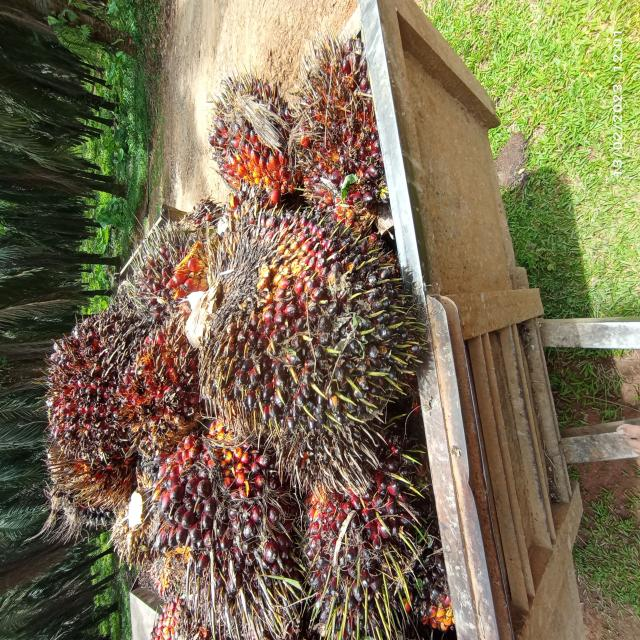fraksi 00: (185, 176, 448, 446)
fraksi 1: (138, 422, 303, 618), (286, 467, 428, 634)
fraksi 3: (26, 308, 153, 460), (178, 60, 302, 203), (291, 42, 385, 196)
fraksi 4: (110, 318, 220, 462)
